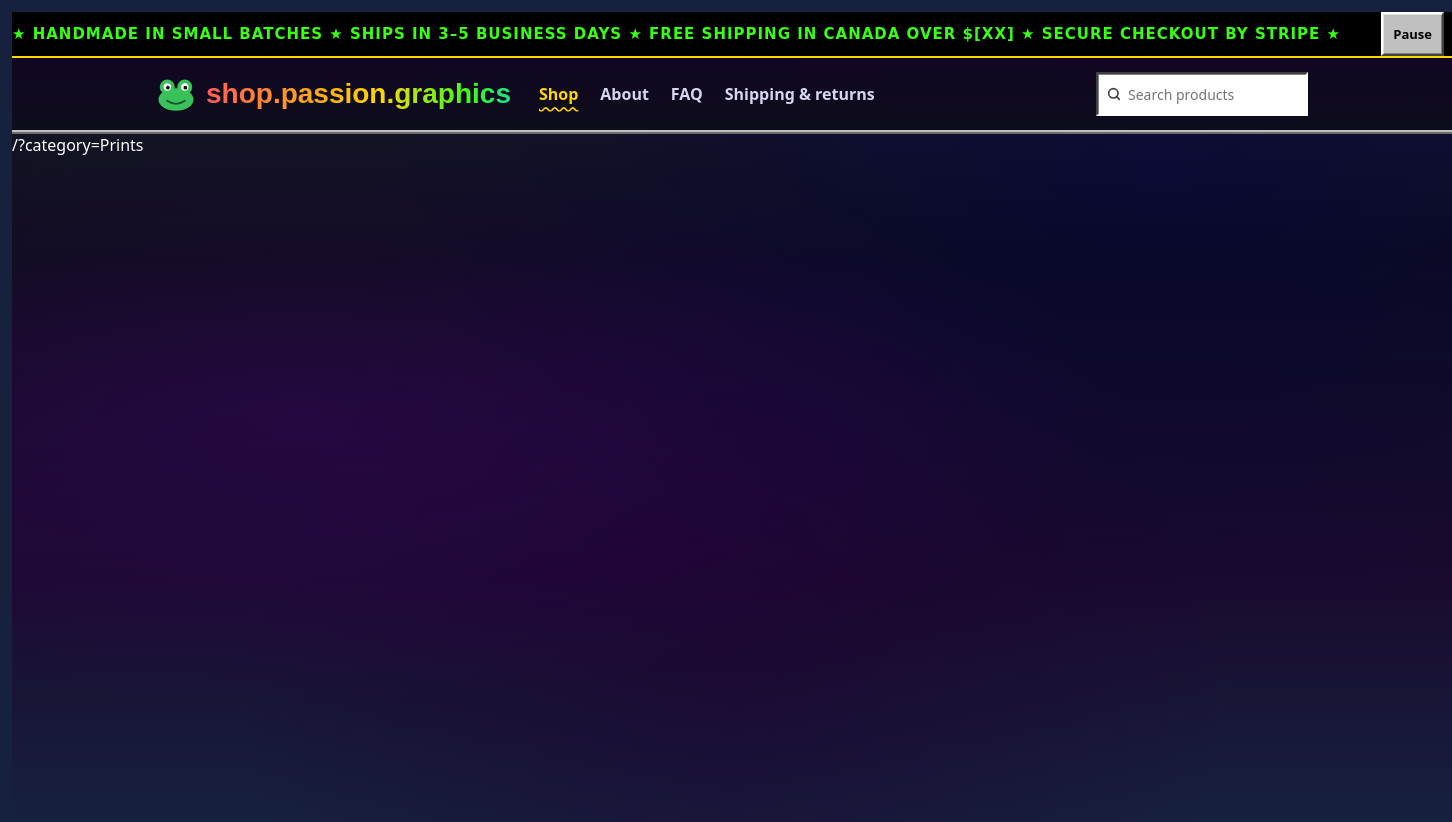
Test: SiteHeader › search › keeps the current home page filters
The width and height of the screenshot is (1452, 822).
In the search field labelled "Search products": (1213, 94) [1128,76,1298,112], type "frog"
Then press Enter
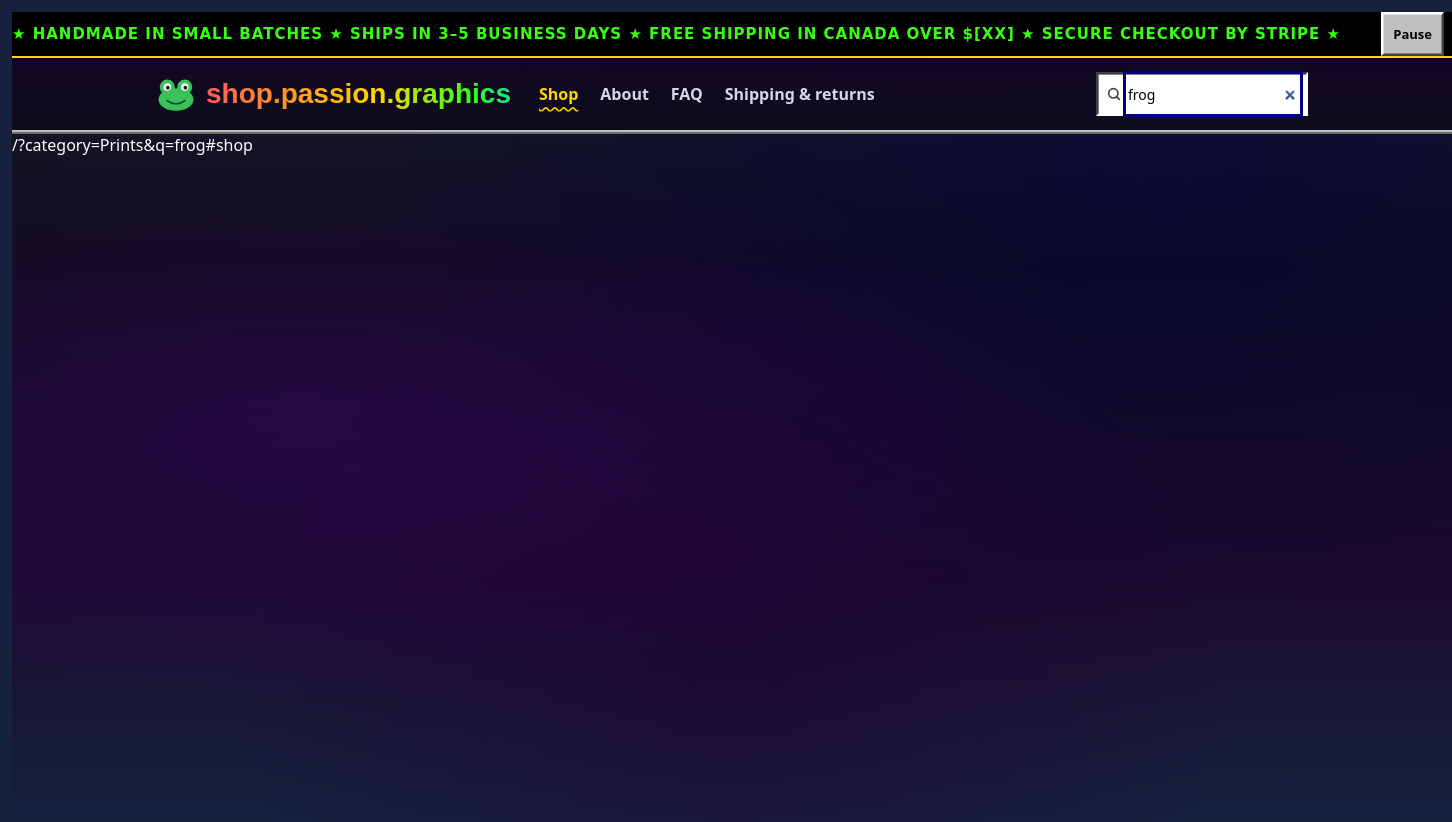
Expected: the text with test id "location" reads "/?category=Prints&q=frog#shop", [12,134,253,156]
